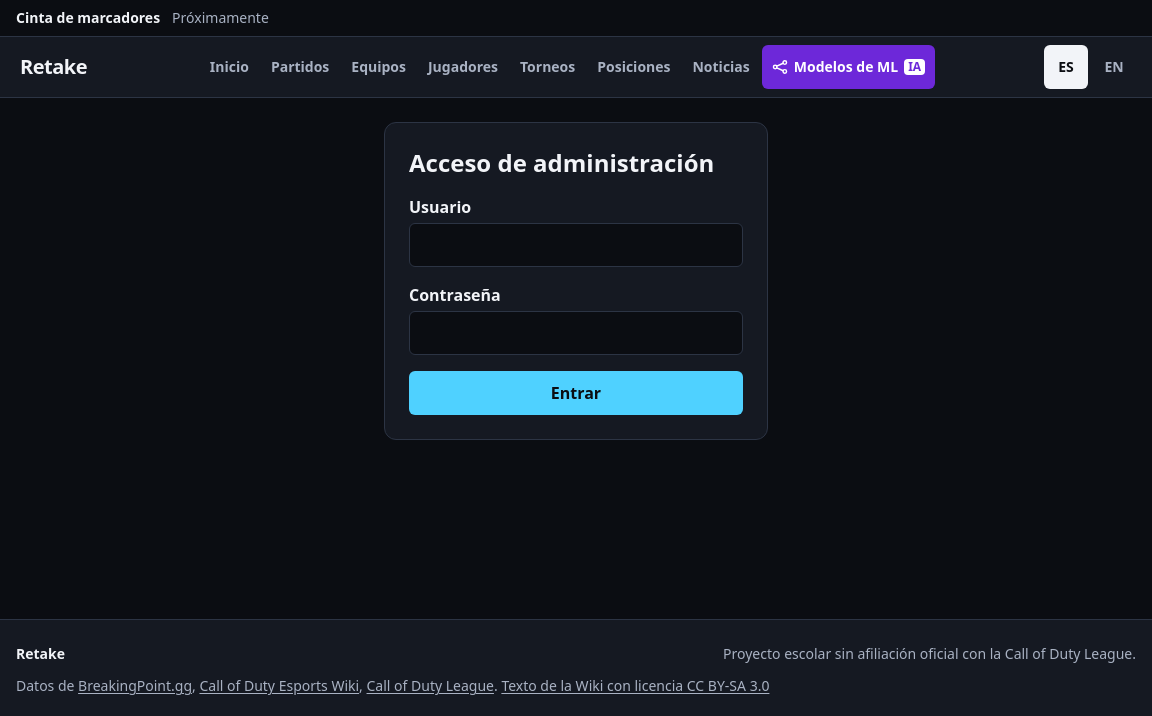
Test: página de administración (T-077 a T-079) › tras entrar muestra los paneles y "Cerrar sesión" vuelve al acceso
The image size is (1152, 716).
Type "hugo" into the field labelled "Usuario".
click(576, 245); type("hugo")  # box [409,223,743,267]
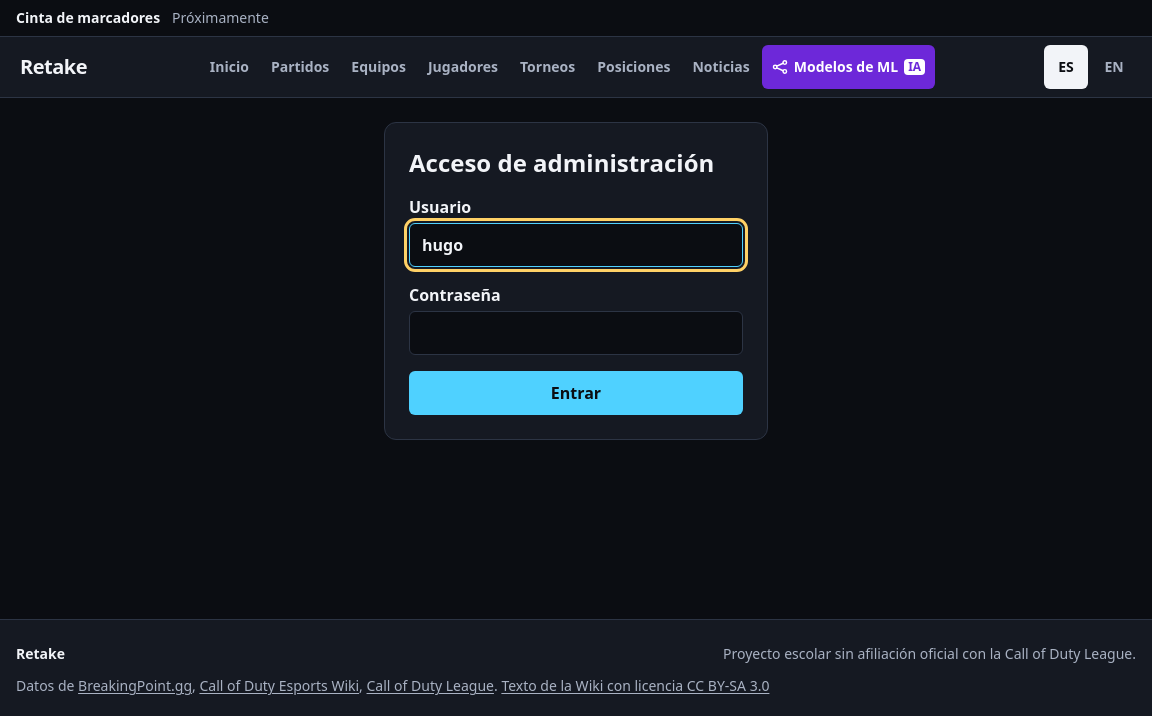
Type "x" into the password field labelled "Contraseña".
click(576, 333); type("x")  # box [409,311,743,355]
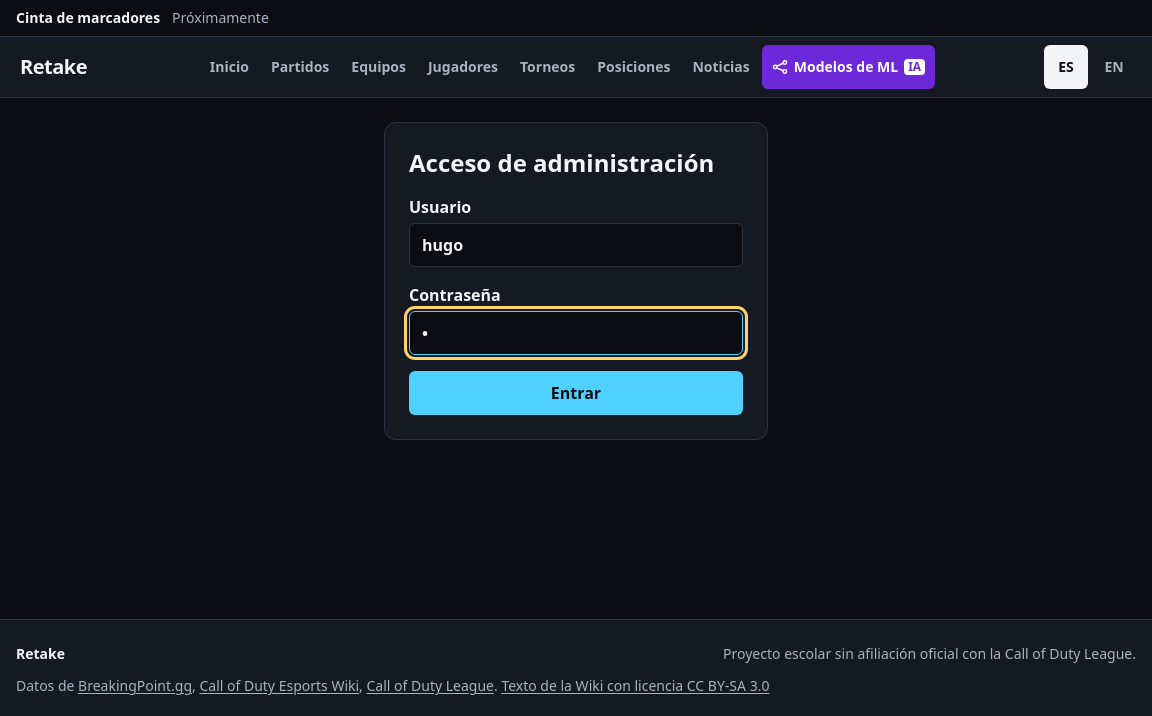
Click the button "Entrar".
click(576, 393)  # box [409,371,743,415]
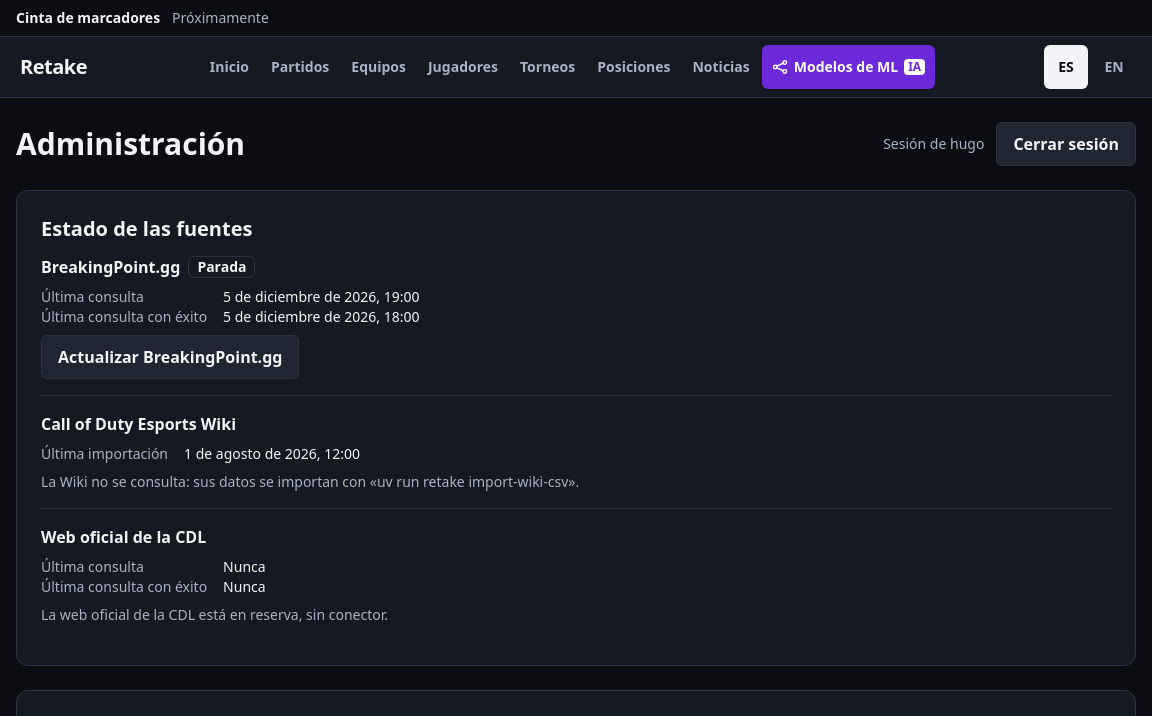
Check: the heading "Estado de las fuentes" is shown, box [41,215,252,242]
Click the button "Cerrar sesión".
click(1066, 144)  # box [996,122,1136,166]
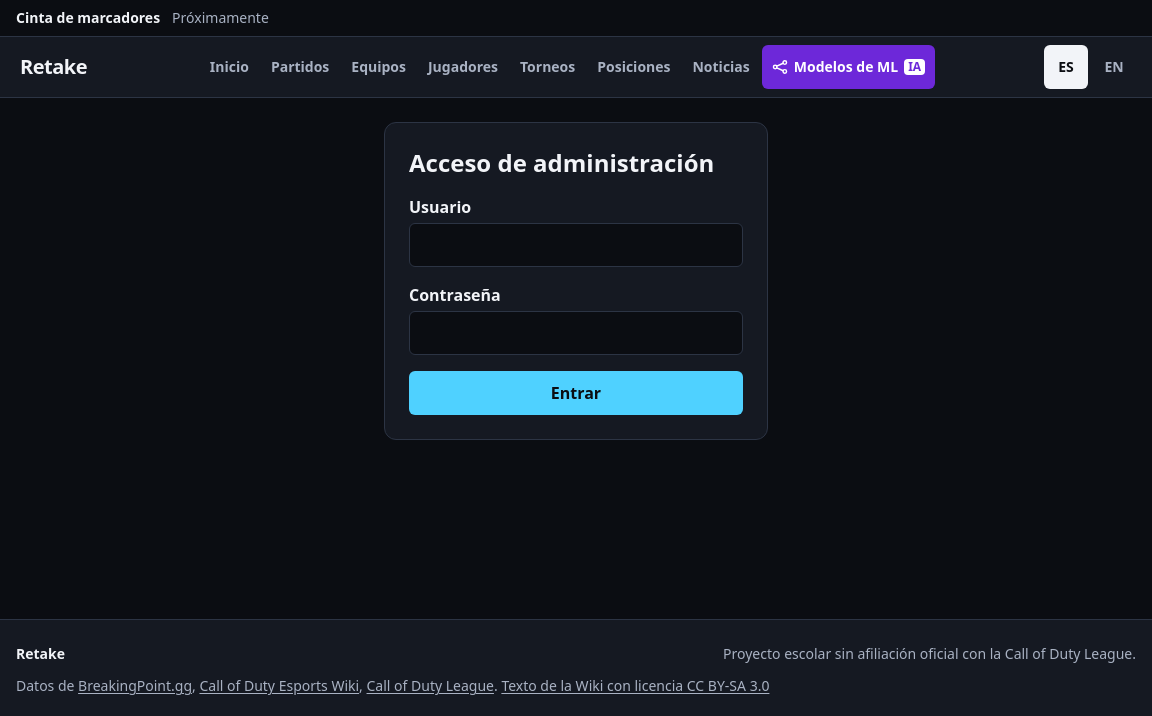
Check: the heading "Acceso de administración" is shown, box [409,147,743,179]
